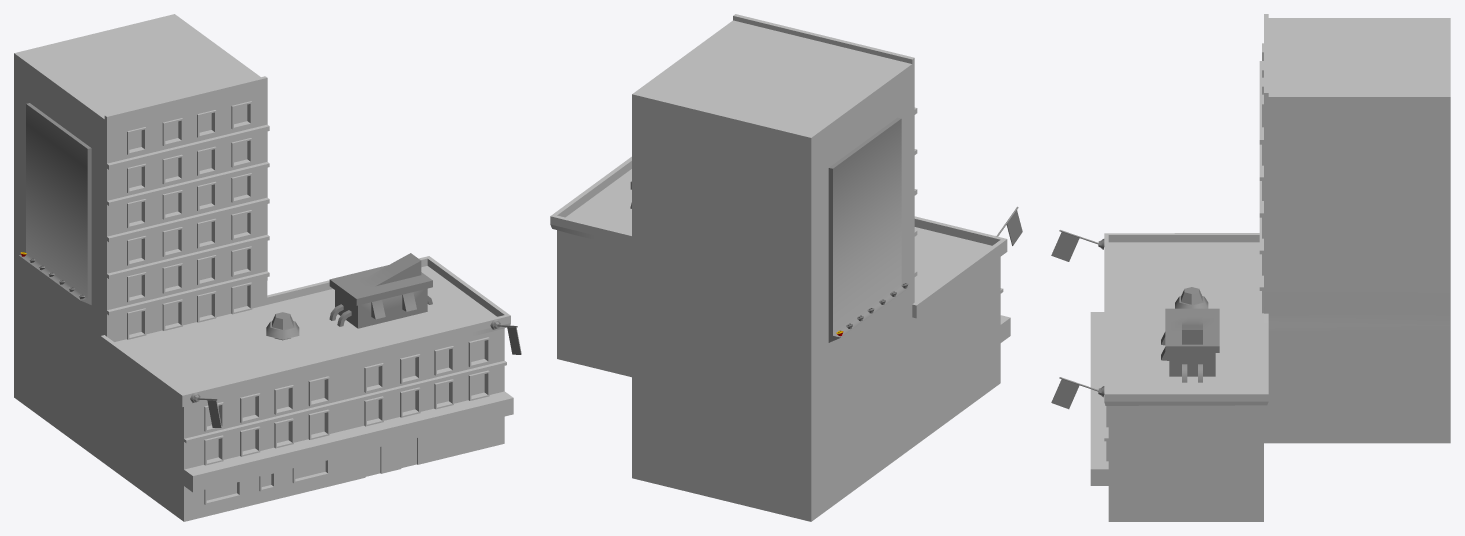
The model's file is Medium building pre-production.FBX.
The picture shows the model from 3 angles, left to right: view 1: azimuth 30°, elevation 25°; view 2: azimuth 150°, elevation 25°; view 3: azimuth 270°, elevation 25°; orthographic projection. The views are drawn at different scales.
Parts seen in each view (by area): view 1: Building, Banner on building, Box002, Cylinder001; view 2: Building, Banner on building; view 3: Building, Box002, Cylinder001, Flag002, Flag001.
Boxes of the visible parts, x1=… form: Building: x1=14, y1=14, x2=513, y2=521; Banner on building: x1=19, y1=103, x2=91, y2=304; Box002: x1=329, y1=253, x2=432, y2=328; Cylinder001: x1=266, y1=312, x2=299, y2=340; Building: x1=550, y1=14, x2=1010, y2=521; Banner on building: x1=828, y1=117, x2=909, y2=342; Building: x1=1090, y1=14, x2=1450, y2=521; Box002: x1=1161, y1=308, x2=1219, y2=382; Cylinder001: x1=1175, y1=287, x2=1208, y2=308; Flag002: x1=1051, y1=379, x2=1079, y2=409; Flag001: x1=1051, y1=232, x2=1079, y2=261.
Bounding box in the file's own units: 242 × 240 × 247.
